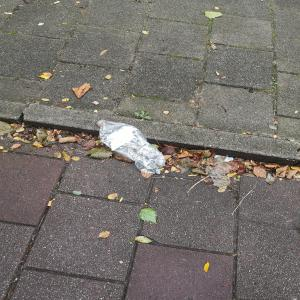Plastic-bottle: (93, 117, 173, 178)
